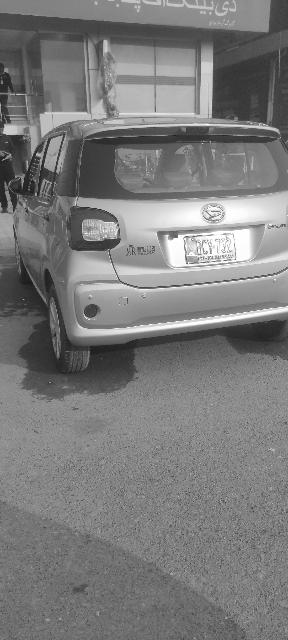Number: (196, 238, 233, 256)
